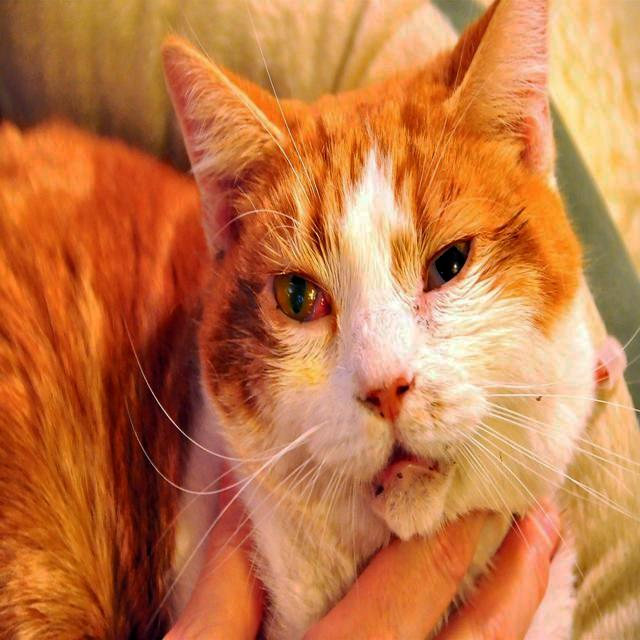eye_infection: (257, 272, 336, 330), (425, 239, 476, 295)
